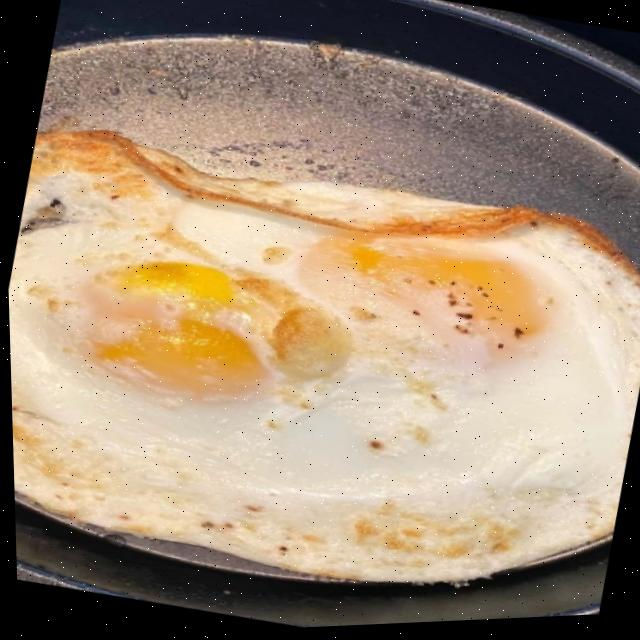Egg: (7, 129, 640, 585)
